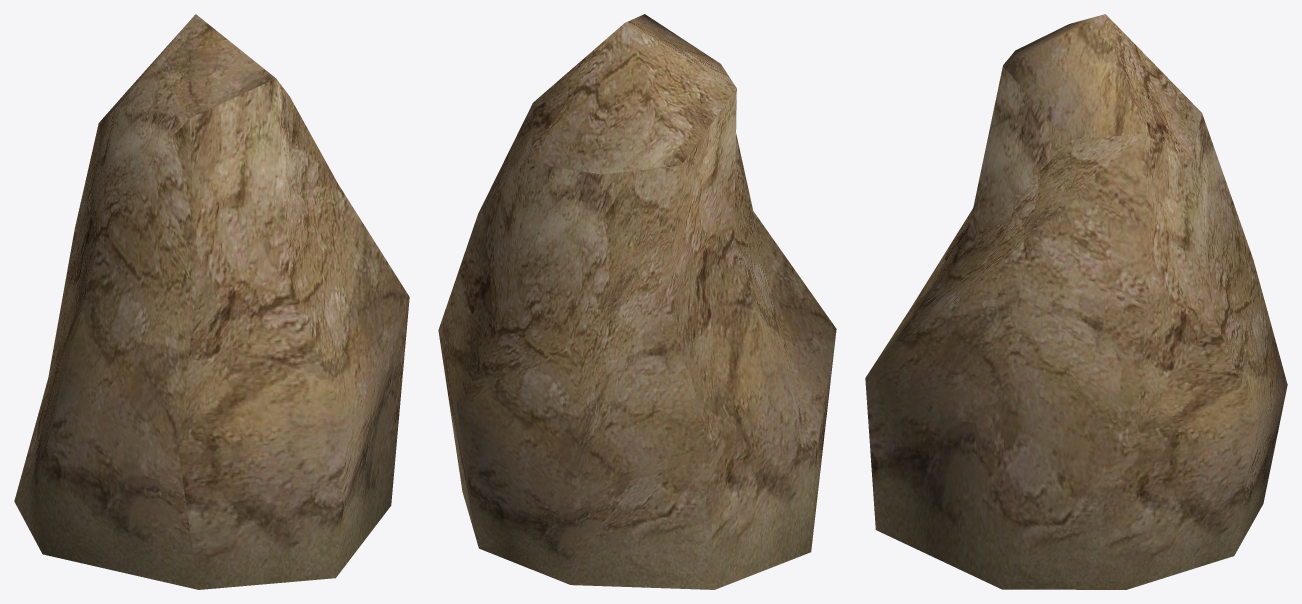
File: w_cd_stone_02_01.glb
3 renders of one model, left to right at view 1: azimuth 30°, elevation 25°; view 2: azimuth 150°, elevation 25°; view 3: azimuth 270°, elevation 25°, orthographic. The views are drawn at different scales.
Visible parts, largest first — view 1: w_cd_stone_02_01; view 2: w_cd_stone_02_01; view 3: w_cd_stone_02_01.
Part boxes in pixels (left/top/right/bottom): w_cd_stone_02_01: left=14, top=14, right=409, bottom=589; w_cd_stone_02_01: left=438, top=14, right=836, bottom=589; w_cd_stone_02_01: left=865, top=14, right=1287, bottom=589.
Bounding box in the file's own units: 19.24 × 26.64 × 20.27.
1 material, 1 textured.
